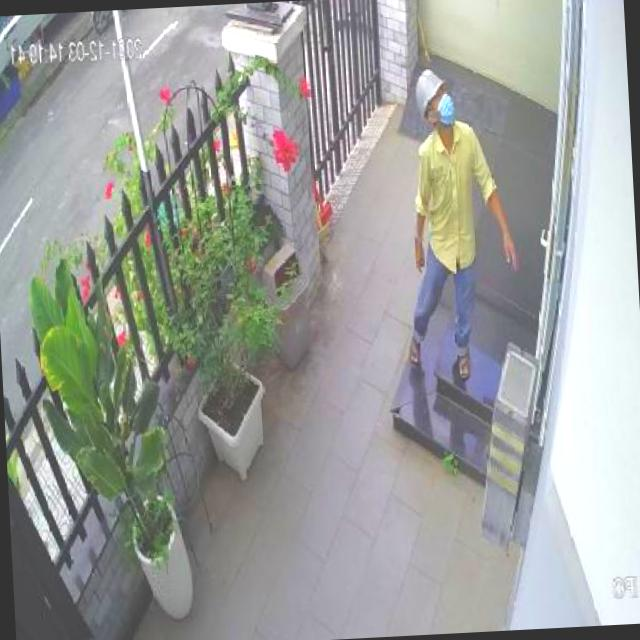Person: (393, 66, 523, 382)
